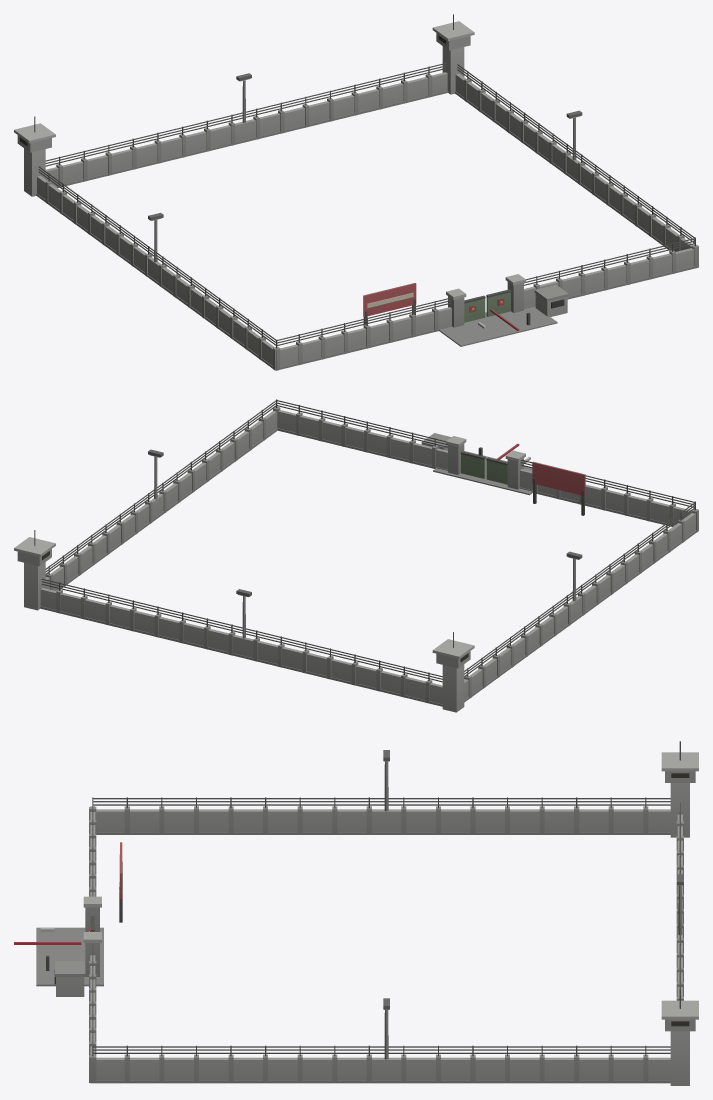
File: m_barracks_11e421eb.glb
3 views of the same model, one above another, from view 1: azimuth 30°, elevation 25°; view 2: azimuth 150°, elevation 25°; view 3: azimuth 270°, elevation 25° (orthographic). The views are drawn at different scales.
Parts seen in each view (by area): view 1: mesh; view 2: mesh; view 3: mesh.
Part boxes in pixels (x1,y1,x2,y2): mesh: (14, 14, 698, 370); mesh: (14, 399, 698, 712); mesh: (14, 741, 698, 1085).
Bounding box in the file's own units: 111 × 18 × 121.
